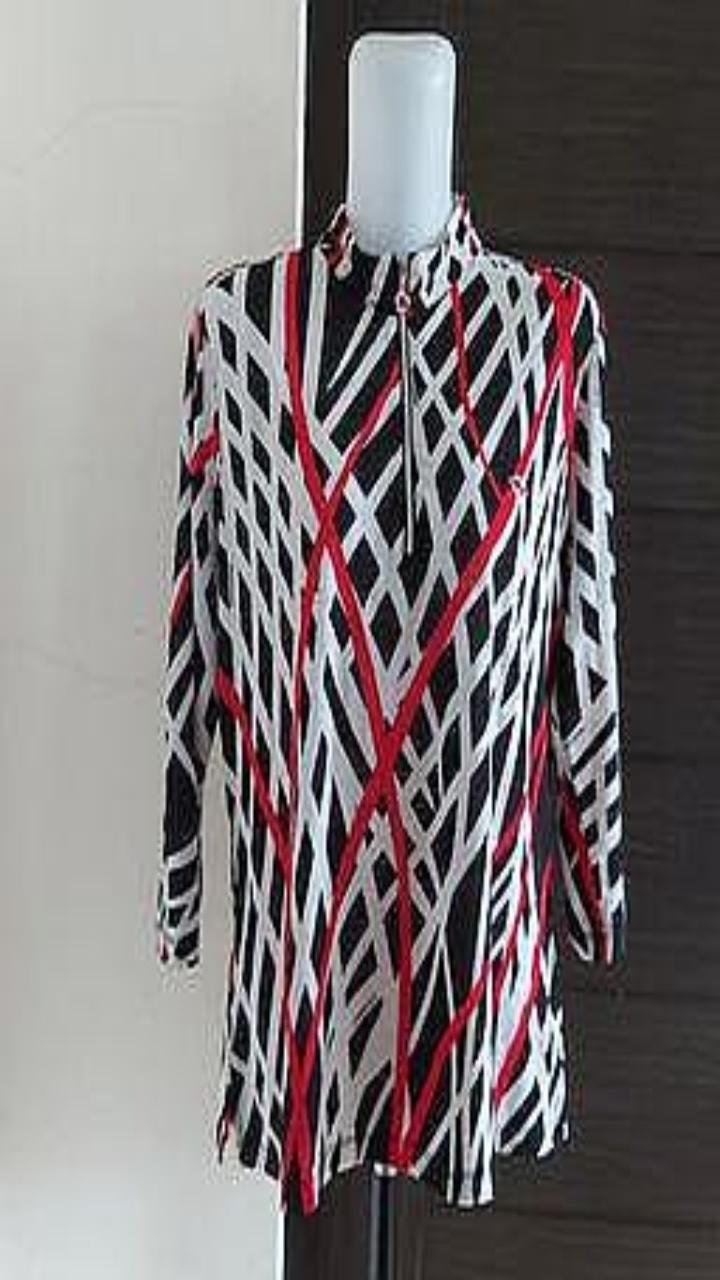T-Shirt: (156, 192, 626, 1212)
